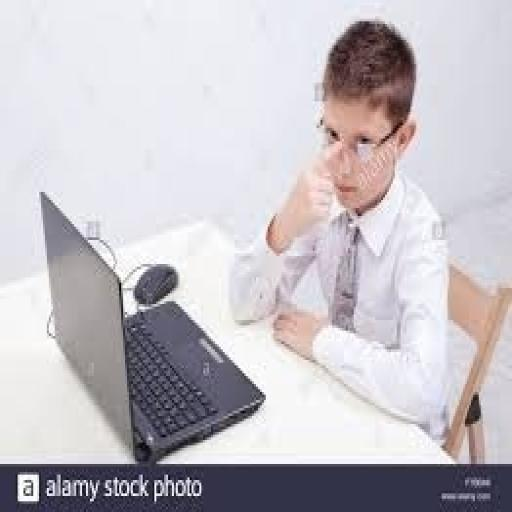using_laptop: (37, 187, 266, 461)
